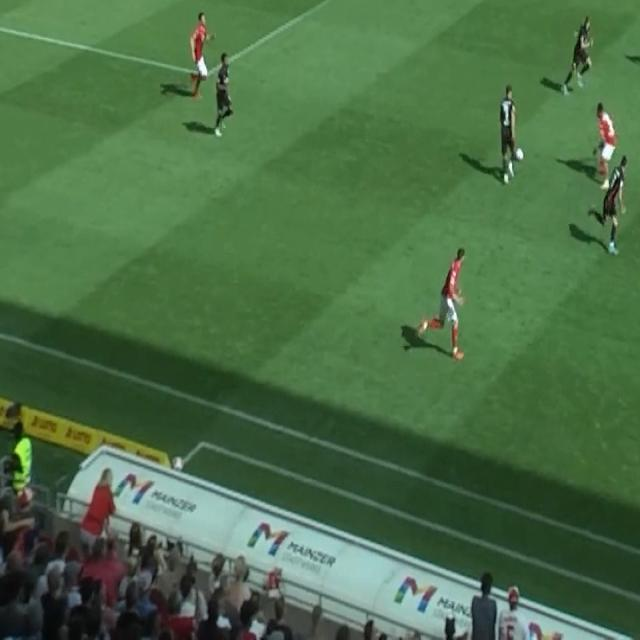ball: (514, 146, 524, 164)
